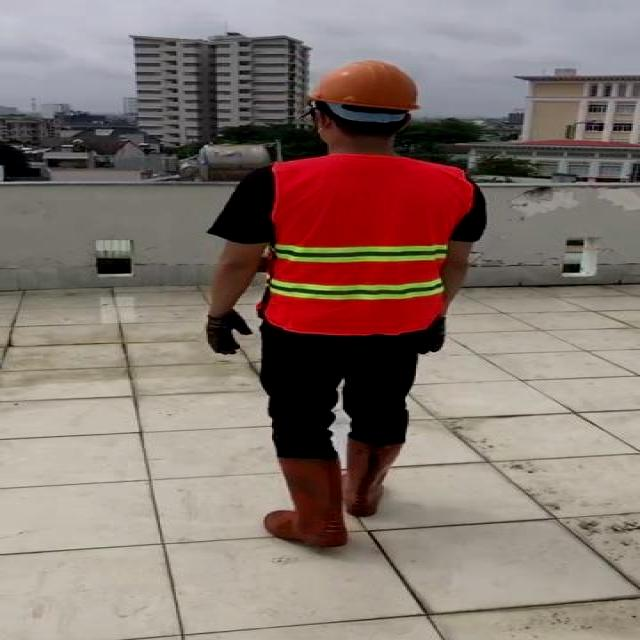boots: (263, 455, 345, 547), (343, 434, 404, 517)
hand_glove: (206, 312, 252, 354), (420, 320, 450, 355)
head_helmet: (198, 56, 492, 548), (308, 58, 426, 115)
vest: (268, 157, 466, 332)
